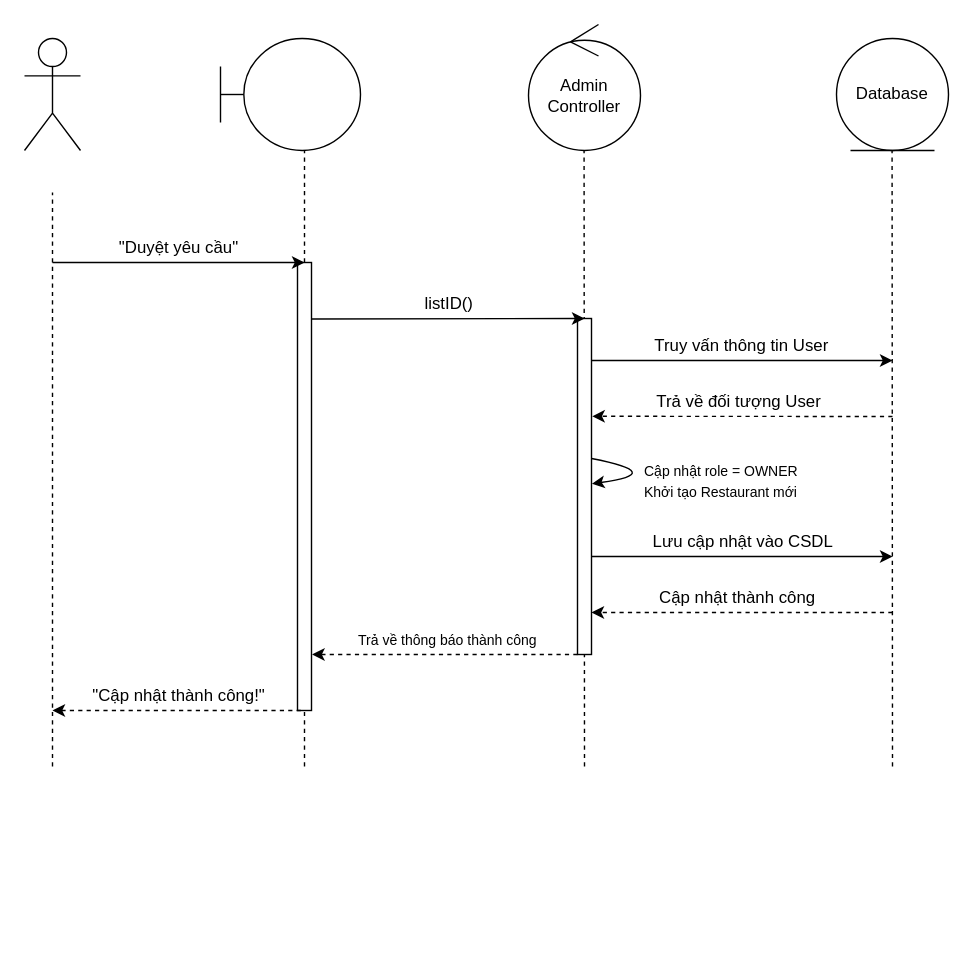
The diagram is 973 pixels wide and 959 high, and some of its shapes have lost their labels. The centre of each missing label's shape, as x and y in pixels:
"Admin" goes at pixel 51 93.
"AdminUI" goes at pixel 289 93.
